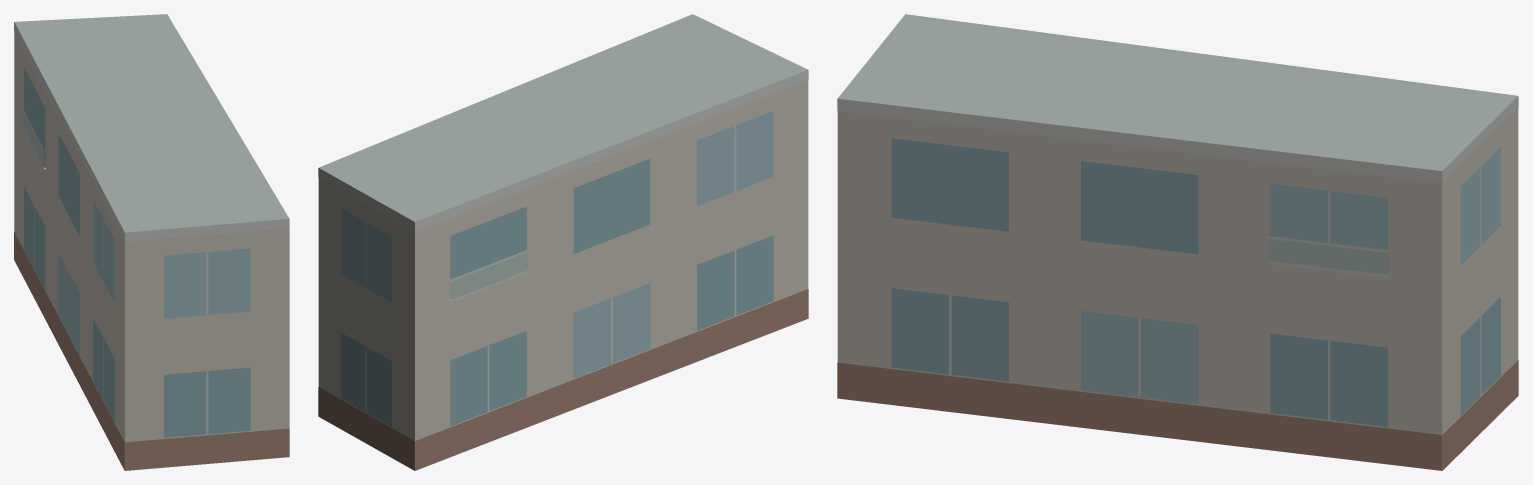
File: survey-upis-32724433.glb
3 views of the same model, side by side, from view 1: azimuth 30°, elevation 25°; view 2: azimuth 150°, elevation 25°; view 3: azimuth 270°, elevation 25° (orthographic). The views are drawn at different scales.
Parts seen in each view (by area): view 1: survey-upis-32724433.tmp; view 2: survey-upis-32724433.tmp; view 3: survey-upis-32724433.tmp.
Boxes of the visible parts, x1,y1,x2,y2 form: survey-upis-32724433.tmp: (14, 14, 289, 470); survey-upis-32724433.tmp: (318, 14, 808, 470); survey-upis-32724433.tmp: (837, 14, 1518, 470).
Size of the model in its own units: 6.86 by 6.1 by 12.57.
